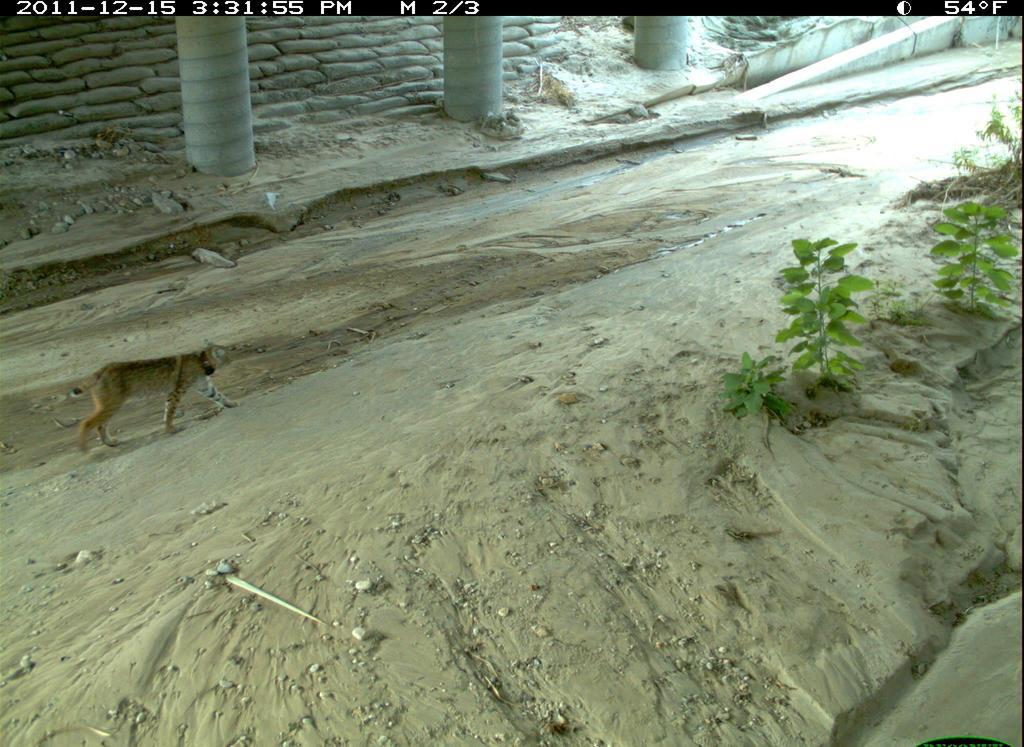bobcat: (48, 322, 253, 483)
